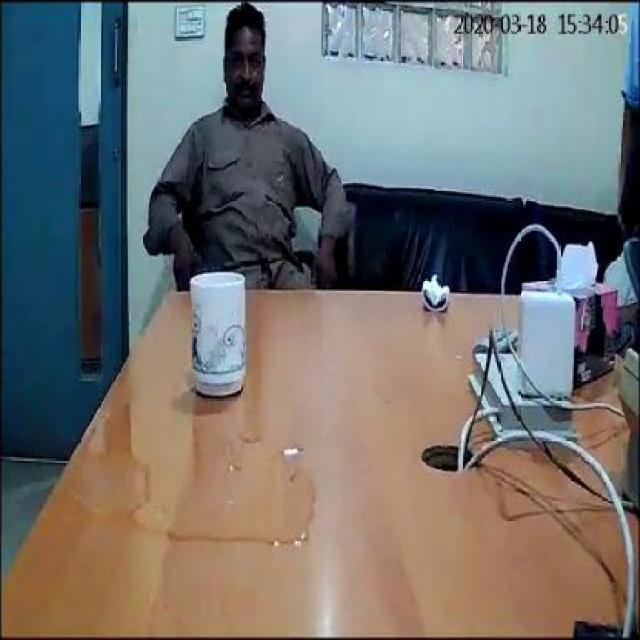spill: (87, 428, 315, 546)
